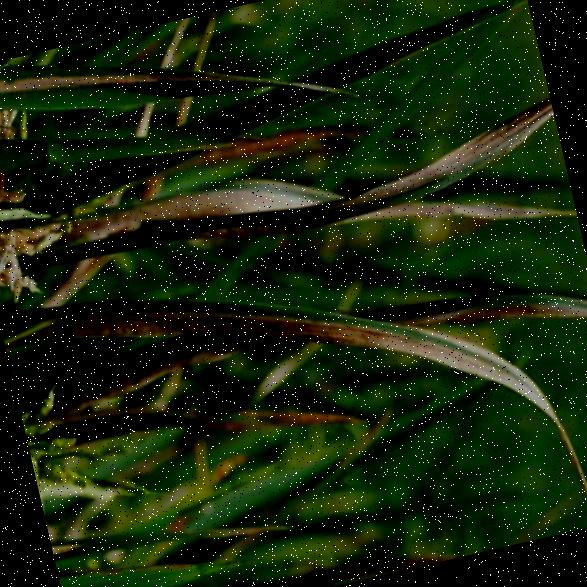Bacteria_Leaf_Blight: (48, 227, 449, 450), (324, 97, 564, 240), (0, 23, 229, 136)
